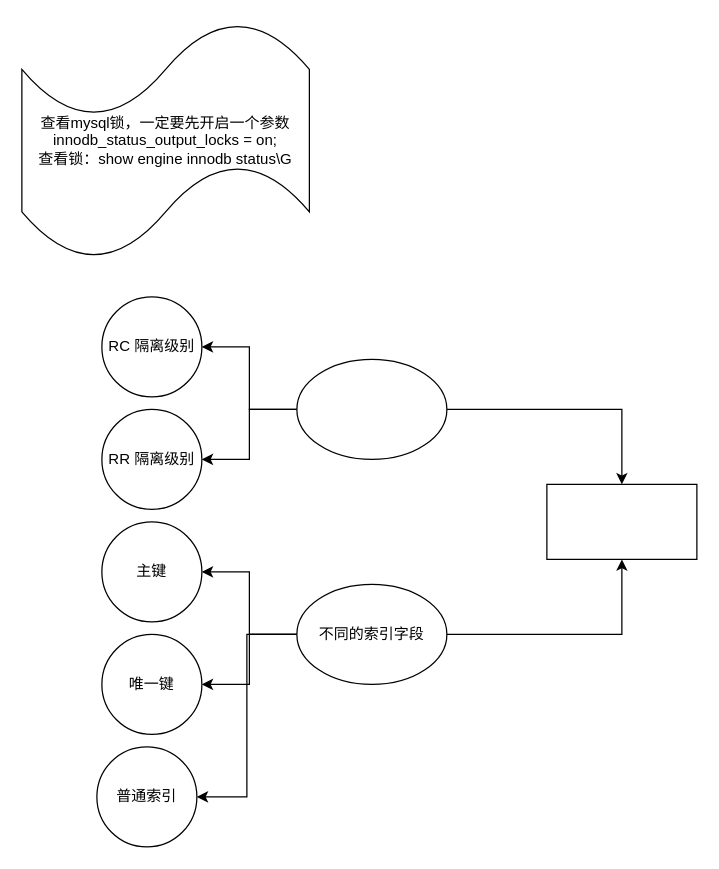
The diagram is 719 pixels wide and 869 high, and some of its shapes have lost their labels. The box of each missing label's shape, as (x1, y1, x2, y2) in pixels:
不同的隔离级别: (296, 358, 447, 459)
两者组合决定 加什么锁: (546, 483, 697, 559)
